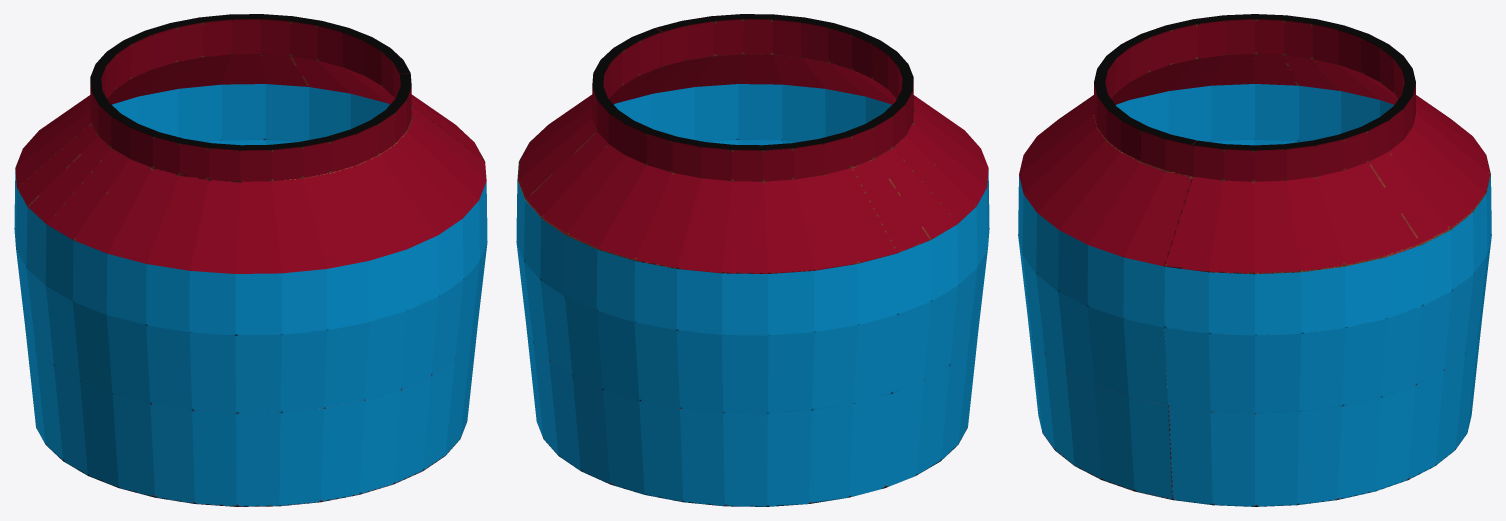
File: claypot_full.obj
3 views of the same model, side by side, from view 1: azimuth 30°, elevation 25°; view 2: azimuth 150°, elevation 25°; view 3: azimuth 270°, elevation 25° (orthographic).
Visible parts, largest first — view 1: Circle; view 2: Circle; view 3: Circle.
Part boxes in pixels (x1,y1,x2,y2): Circle: (14, 14, 487, 506); Circle: (516, 14, 989, 506); Circle: (1018, 14, 1491, 506).
Size of the model in its own units: 1.09 by 0.8489 by 1.09.
Materials: 1 (1 with a texture image).
